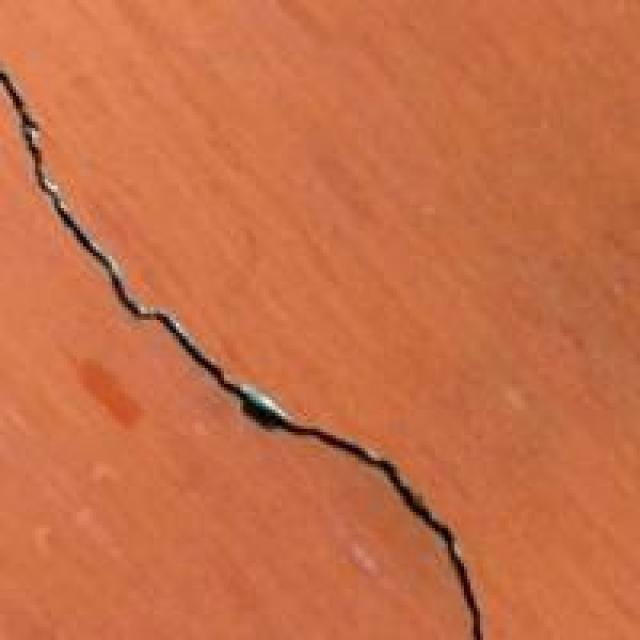crack: (0, 60, 512, 640)
